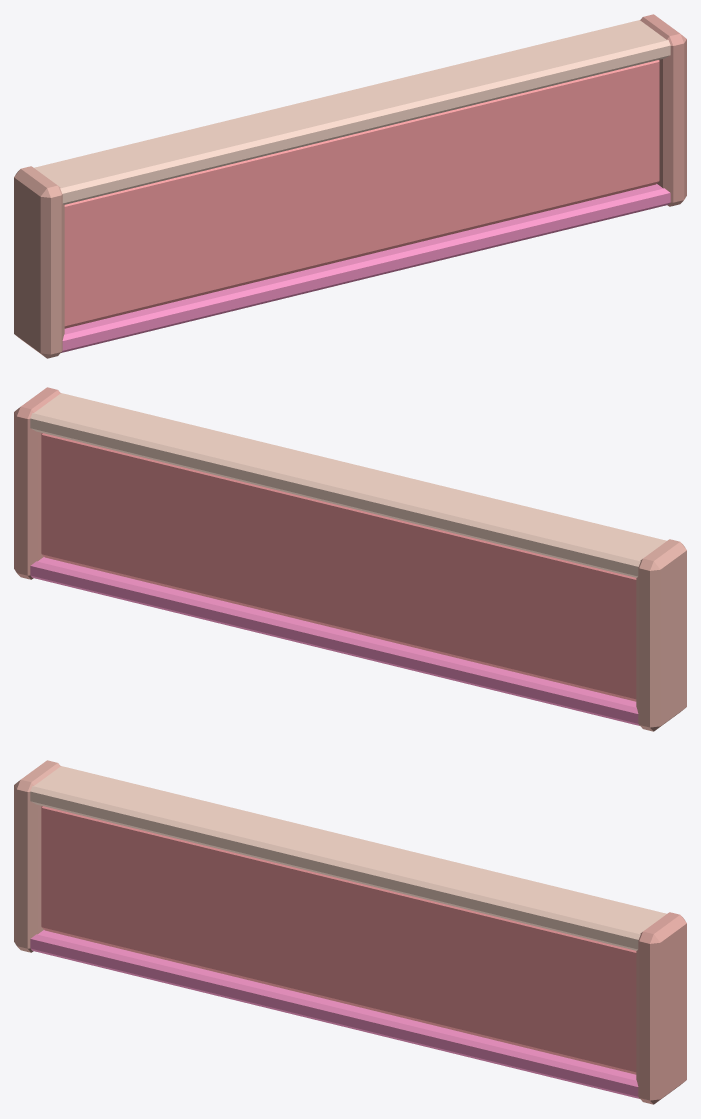
Rendered from WC_RIVER_Sign_Blank_A.glb.
3 views of the same model, one above another, from view 1: azimuth 30°, elevation 25°; view 2: azimuth 150°, elevation 25°; view 3: azimuth 330°, elevation 25° (orthographic).
Parts seen in each view (by area): view 1: WC_RIVER_Sign_Blank_A_RenderMesh; view 2: WC_RIVER_Sign_Blank_A_RenderMesh; view 3: WC_RIVER_Sign_Blank_A_RenderMesh.
Boxes of the visible parts, x1,y1,x2,y2 form: WC_RIVER_Sign_Blank_A_RenderMesh: (14, 14, 686, 358); WC_RIVER_Sign_Blank_A_RenderMesh: (14, 387, 686, 731); WC_RIVER_Sign_Blank_A_RenderMesh: (14, 760, 686, 1104).
Size of the model in its own units: 1.74 by 0.44 by 0.16.
